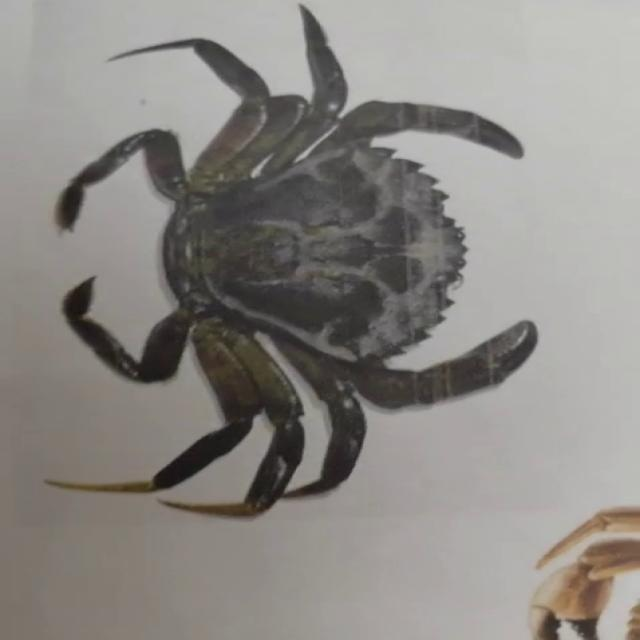egc: (47, 5, 536, 517)
